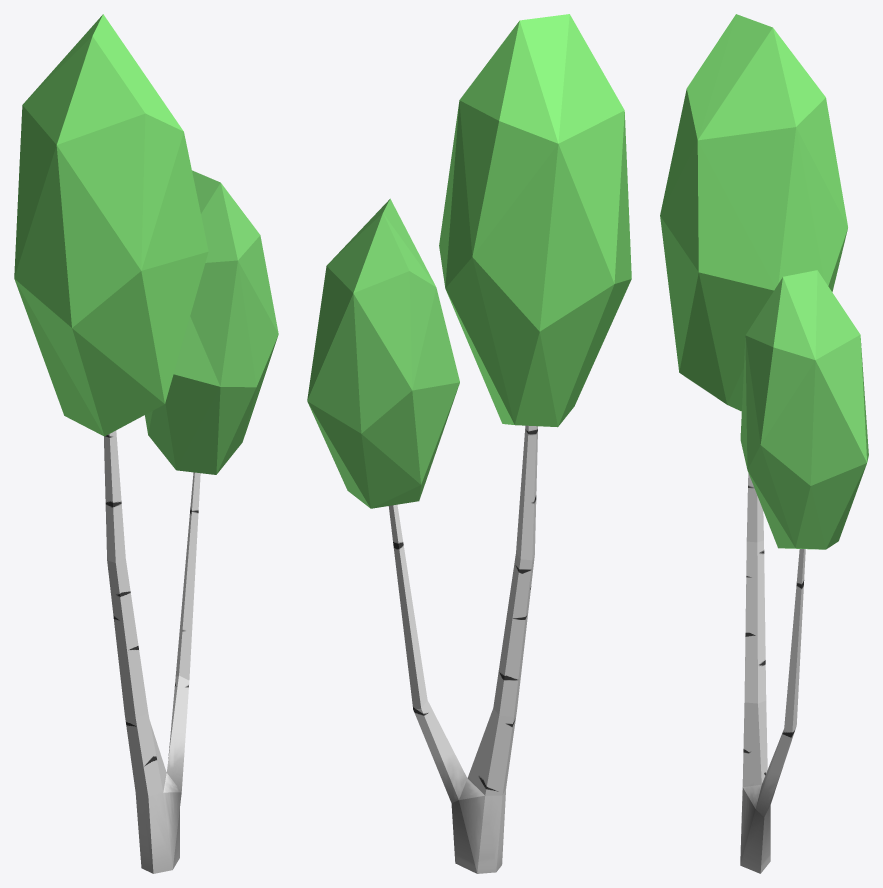
The model's file is Birch_Tree_m_07_LOD.fbx.
3 renders of one model, left to right at view 1: azimuth 30°, elevation 25°; view 2: azimuth 150°, elevation 25°; view 3: azimuth 270°, elevation 25°, orthographic. The views are drawn at different scales.
Visible parts, largest first — view 1: Birch_Tree_m_07_LOD0; view 2: Birch_Tree_m_07_LOD0; view 3: Birch_Tree_m_07_LOD0.
Boxes of the visible parts, x1,y1,x2,y2 form: Birch_Tree_m_07_LOD0: (14, 14, 278, 873); Birch_Tree_m_07_LOD0: (307, 14, 631, 873); Birch_Tree_m_07_LOD0: (660, 14, 868, 873).
Size of what is drawn, in the model's own units: 241 by 756 by 176.
